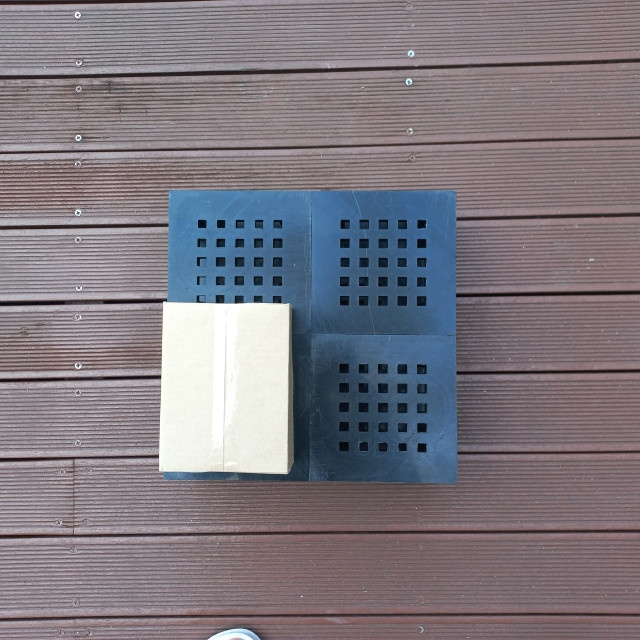box: (158, 300, 294, 476)
pallet: (159, 187, 458, 488)
